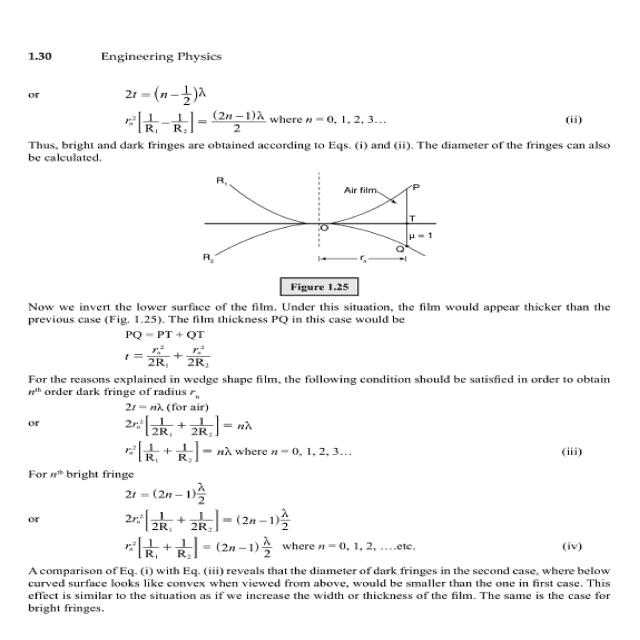diagram: (158, 167, 535, 297)
